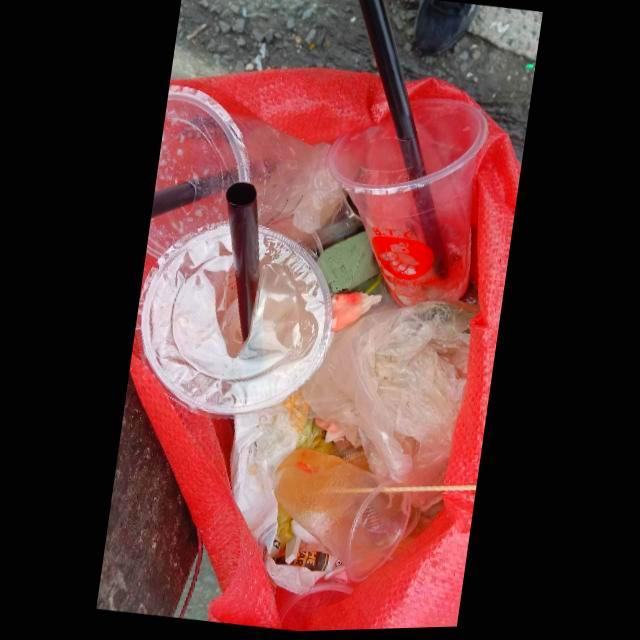food_wrapper: (265, 515, 341, 592)
plastic_bag: (298, 297, 479, 490), (230, 391, 328, 553)
plastic_container: (142, 225, 334, 416), (329, 102, 489, 310), (273, 449, 416, 584)
